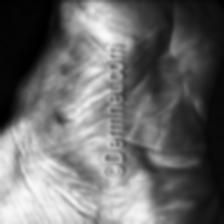Non-Cancerous Skin Condition: (138, 0, 212, 208), (31, 29, 103, 189)
